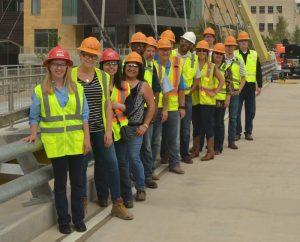helmet: (43, 47, 75, 68), (79, 37, 105, 57), (101, 48, 122, 64), (129, 33, 148, 47), (161, 30, 178, 44), (125, 53, 144, 65), (181, 33, 197, 45), (213, 42, 227, 55), (158, 38, 173, 50), (196, 41, 211, 52), (238, 31, 252, 42), (224, 37, 238, 47), (203, 27, 217, 36), (148, 37, 158, 48)
